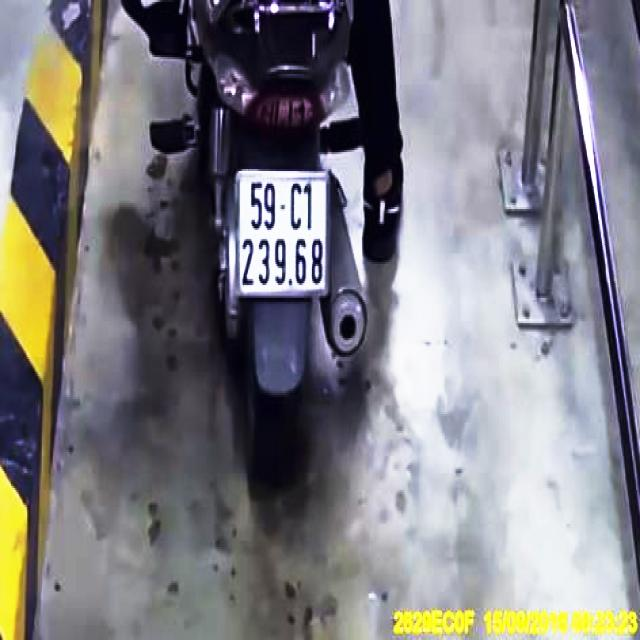license_plate: (238, 172, 330, 295)
